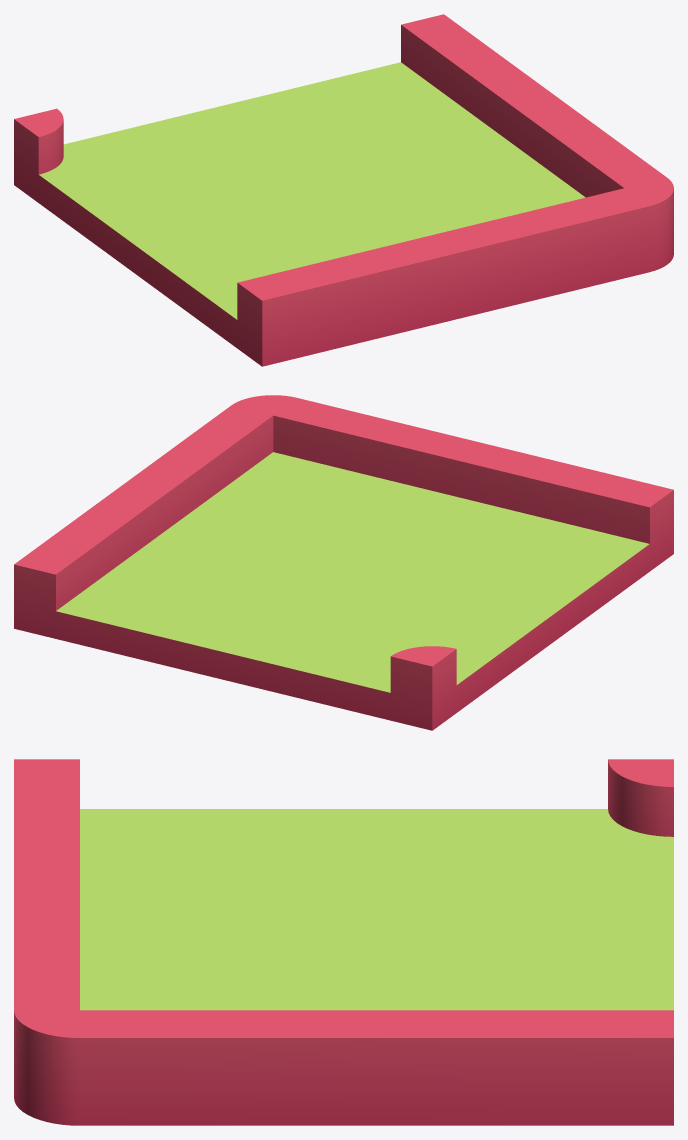
The model's file is square-corner-a.fbx.
3 views of the same model, one above another, from view 1: azimuth 30°, elevation 25°; view 2: azimuth 150°, elevation 25°; view 3: azimuth 270°, elevation 25° (orthographic). The views are drawn at different scales.
Parts seen in each view (by area): view 1: square_corner_a; view 2: square_corner_a; view 3: square_corner_a.
Boxes of the visible parts, <box> form: square_corner_a: <box>14,14,673,366</box>; square_corner_a: <box>14,395,673,730</box>; square_corner_a: <box>14,759,673,1125</box>.
Bounding box in the file's own units: 99.99 × 14.67 × 99.99.
